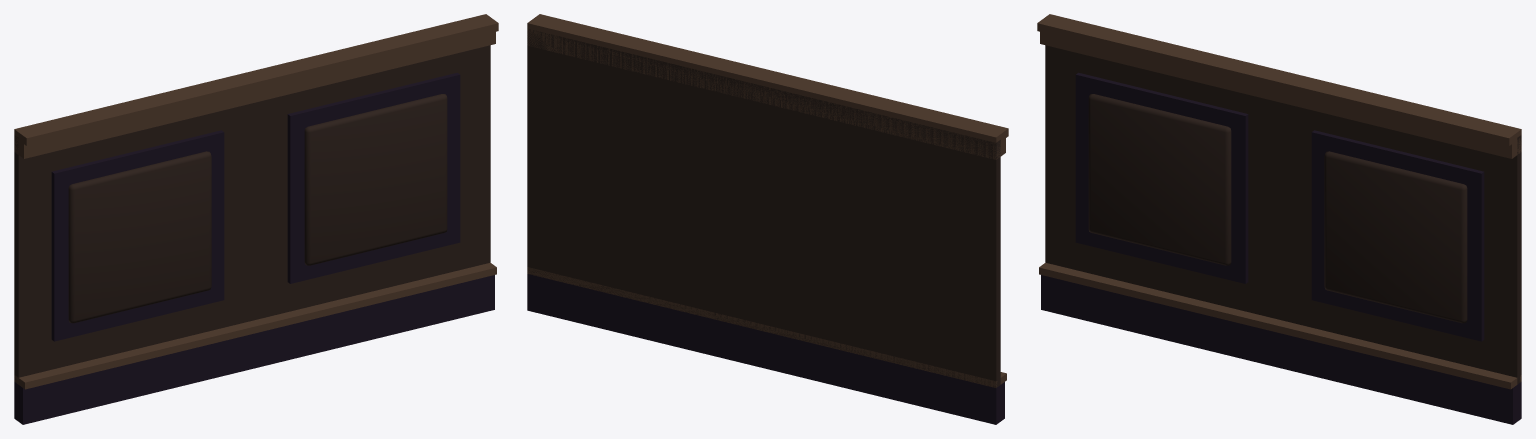
The model's file is wainscot.glb.
3 renders of one model, left to right at view 1: azimuth 30°, elevation 25°; view 2: azimuth 150°, elevation 25°; view 3: azimuth 330°, elevation 25°, orthographic.
Visible parts, largest first — view 1: wainscot; view 2: wainscot; view 3: wainscot.
Part boxes in pixels (<box>): wainscot: <box>14,14,498,424</box>; wainscot: <box>527,14,1008,424</box>; wainscot: <box>1037,14,1521,424</box>.
Bounding box in the file's own units: 1 × 0.586 × 0.046.
